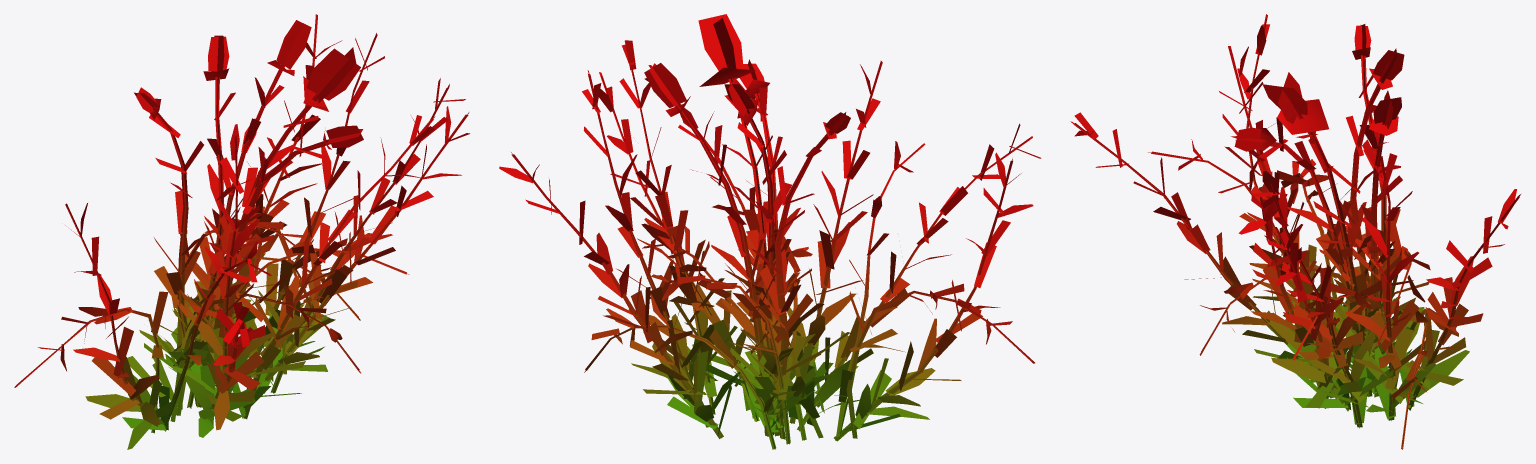
Rendered from Var2_LOD3.fbx.
3 views of the same model, side by side, from view 1: azimuth 30°, elevation 25°; view 2: azimuth 150°, elevation 25°; view 3: azimuth 270°, elevation 25° (orthographic).
Parts seen in each view (by area): view 1: _rqrn_Var2_LOD3; view 2: _rqrn_Var2_LOD3; view 3: _rqrn_Var2_LOD3.
Part boxes in pixels (left/top/right/bottom): _rqrn_Var2_LOD3: left=14, top=14, right=469, bottom=449; _rqrn_Var2_LOD3: left=499, top=14, right=1041, bottom=449; _rqrn_Var2_LOD3: left=1070, top=14, right=1520, bottom=449.
Size of the model in its own units: 30.71 by 24.28 by 26.59.
